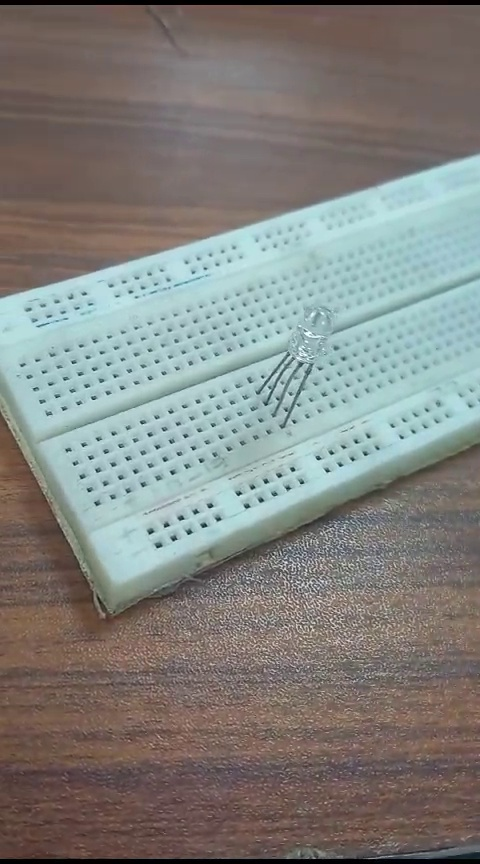LED: (256, 296, 330, 417)
